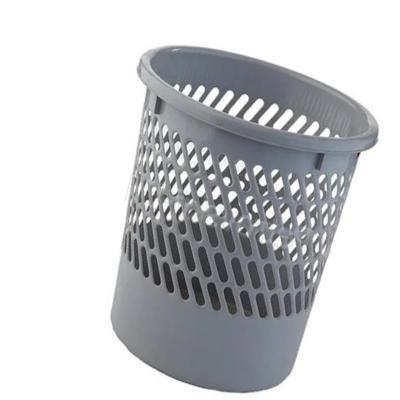Bote de Basura: (122, 50, 371, 387)
